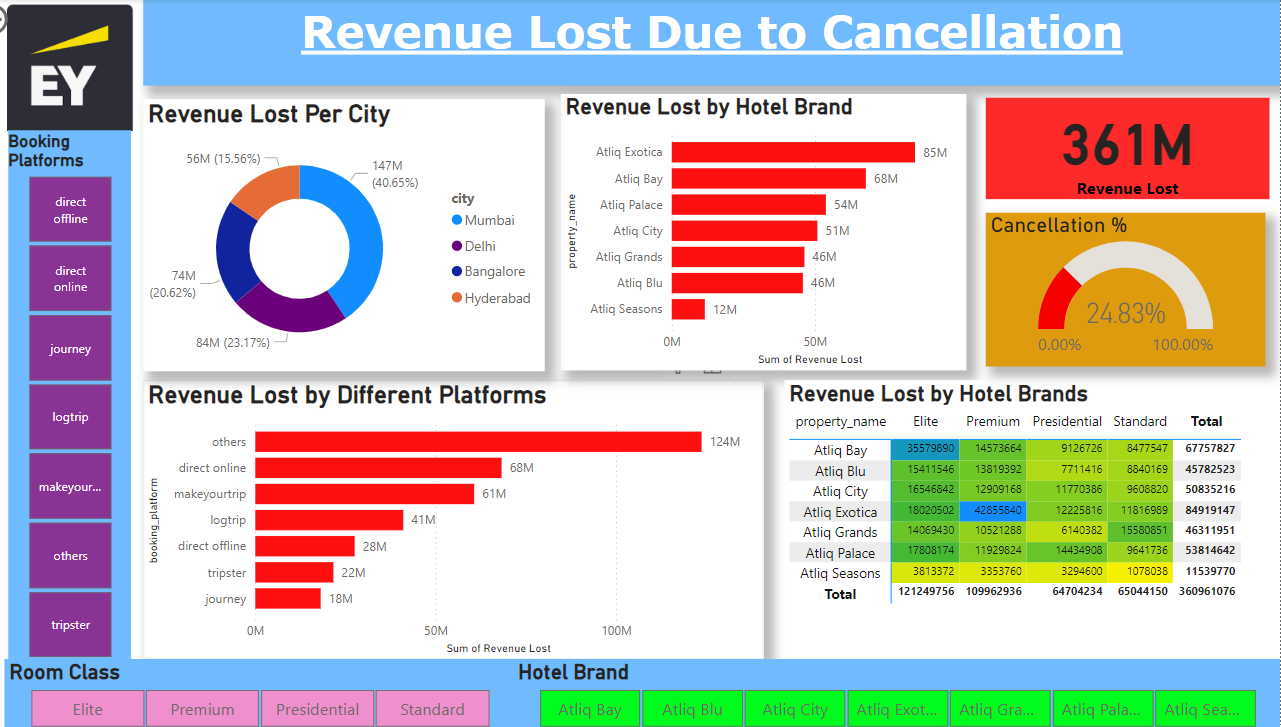

What the dashboard file says about the page in this screenshot:
{"tool":"powerbi","page":{"name":"Loss Realised","canvas":[1280,720],"ordinal":1},"visuals":[{"type":"textbox","box":[167.6,0,1112.7,84.4],"z":0},{"type":"clusteredBarChart","title":"Revenue Lost by Different Platforms","fields":{"Category":["fact_bookings.booking_platform"],"Y":["Sum(fact_bookings.Revenue Lost)"]},"box":[166.9,372.5,607,273.2],"z":1000},{"type":"image","box":[0,0,191.5,137.8],"z":2000},{"type":"clusteredBarChart","title":"Revenue Lost by Hotel Brand","fields":{"Category":["dim_hotels.property_name"],"Y":["Sum(fact_bookings.Revenue Lost)"]},"box":[576.3,93.3,396.6,270.3],"z":3000},{"type":"donutChart","title":"Revenue Lost Per City","fields":{"Category":["dim_hotels.city"],"Y":["Sum(fact_bookings.Revenue Lost)"]},"box":[166.9,98,393.2,266.3],"z":4000},{"type":"actionButton","box":[0,0,100,40],"z":5000},{"type":"pivotTable","title":"Revenue Lost by Hotel Brands","fields":{"Rows":["dim_hotels.property_name"],"Columns":["dim_rooms.room_class"],"Values":["Sum(fact_bookings.Revenue Lost)"]},"box":[794.7,372.5,470.4,273.2],"z":6000},{"type":"slicer","title":"Booking Platforms","fields":{"Values":["fact_bookings.booking_platform"]},"box":[35.9,128.3,120,517.4],"z":7000},{"type":"slicer","title":"Room Class","fields":{"Values":["dim_rooms.room_class"]},"box":[31.7,645.7,498,74.5],"z":8000},{"type":"slicer","title":"Hotel Brand","fields":{"Values":["dim_hotels.property_name"]},"box":[529.8,645.7,750.5,74.5],"z":9000},{"type":"card","fields":{"Values":["Sum(fact_bookings.Revenue Lost)"]},"box":[991.7,96.6,277.6,99],"z":10000},{"type":"gauge","fields":{"Y":["fact_bookings._Booking Cancellation %"]},"box":[991.7,209.1,273.9,150.4],"z":11000}]}

Visuals, with their boxes in screenshot pixels (x1, y1, x2, y2), scaled from the page's 1280x720 canvas onto the 1281x727 screenshot:
textbox: left=168, top=0, right=1280, bottom=85
"Revenue Lost by Different Platforms" clusteredBarChart: left=167, top=376, right=775, bottom=652
image: left=0, top=0, right=192, bottom=139
"Revenue Lost by Hotel Brand" clusteredBarChart: left=577, top=94, right=974, bottom=367
"Revenue Lost Per City" donutChart: left=167, top=99, right=561, bottom=368
actionButton: left=0, top=0, right=100, bottom=40
"Revenue Lost by Hotel Brands" pivotTable: left=795, top=376, right=1266, bottom=652
"Booking Platforms" slicer: left=36, top=130, right=156, bottom=652
"Room Class" slicer: left=32, top=652, right=530, bottom=726
"Hotel Brand" slicer: left=530, top=652, right=1280, bottom=726
card - Sum(fact_bookings.Revenue Lost): left=992, top=98, right=1270, bottom=198
gauge - fact_bookings._Booking Cancellation %: left=992, top=211, right=1267, bottom=363
